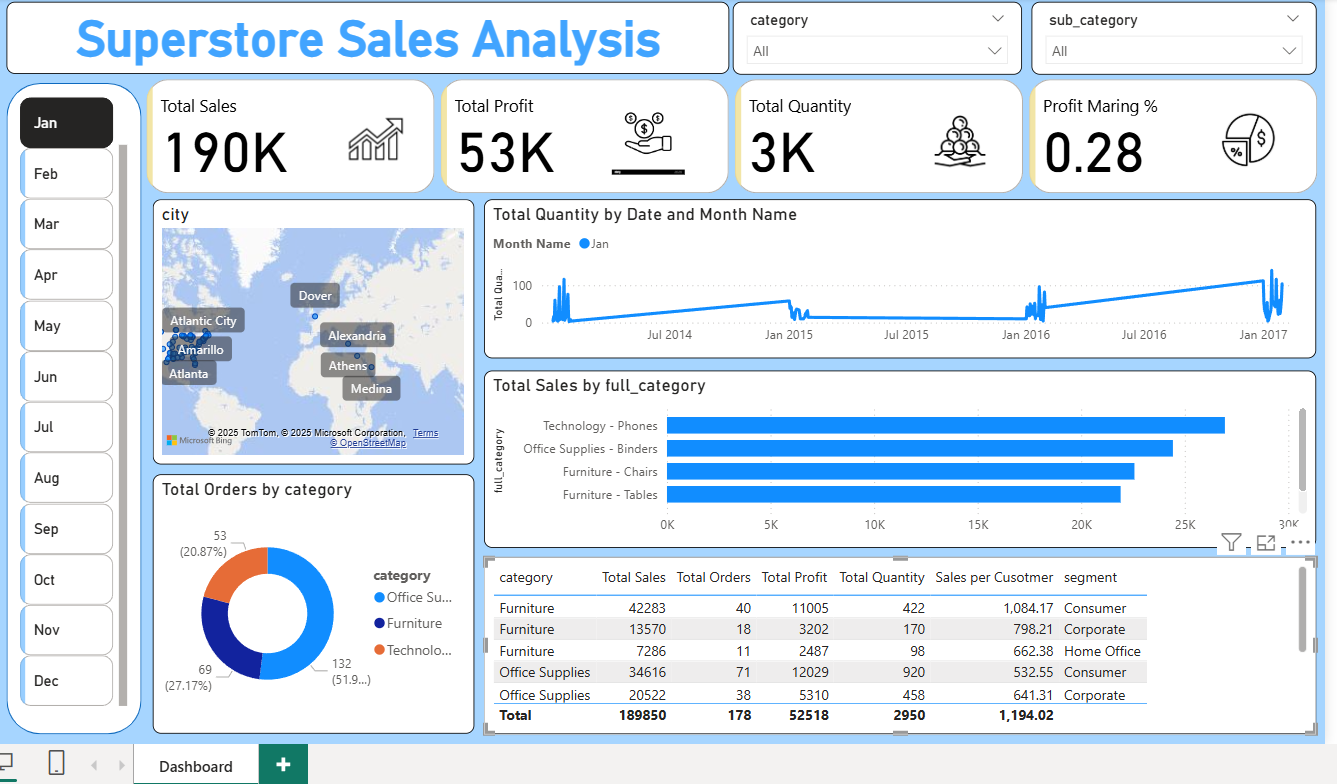

This screenshot's page, from the dashboard's own definition file:
{"tool":"powerbi","page":{"name":"Dashboard","canvas":[1280,720],"ordinal":0},"visuals":[{"type":"shape","box":[7.2,82,130.3,628.6],"z":0},{"type":"advancedSlicerVisual","fields":{"Values":["Date Table.Month Name"]},"box":[15.7,90.5,113.4,603.2],"z":1000},{"type":"cardVisual","fields":{"Data":["db_store superstore_sales.Total Sales","db_store superstore_sales.Total Profit","db_store superstore_sales.Total Quantity","db_store superstore_sales.Profit Maring %"]},"box":[137.5,73.6,1142.5,120.6],"z":2000},{"type":"image","box":[332.1,100,64.2,71.6],"z":3000},{"type":"image","box":[892.6,107.4,70.4,61.7],"z":4000},{"type":"image","box":[1169.1,102.5,74.1,69.1],"z":5000},{"type":"image","box":[575.3,90.1,102.5,85.2],"z":6000},{"type":"slicer","fields":{"Values":["db_store superstore_sales.category"]},"box":[708.6,3.7,279,70.4],"z":7000},{"type":"slicer","fields":{"Values":["db_store superstore_sales.sub_category"]},"box":[996.3,3.7,275.3,70.4],"z":8000},{"type":"map","fields":{"Category":["db_store superstore_sales.city"]},"box":[148.8,193.8,310,256.2],"z":9000},{"type":"lineChart","fields":{"Y":["db_store superstore_sales.Total Quantity"],"Category":["Date Table.Date"],"Series":["Date Table.Month Name"]},"box":[468.1,194.2,803.5,153.2],"z":10000},{"type":"donutChart","fields":{"Y":["db_store superstore_sales.Total Orders"],"Category":["db_store superstore_sales.category"]},"box":[148.8,460,310,250],"z":11000},{"type":"clusteredBarChart","fields":{"Y":["db_store superstore_sales.Total Sales"],"Category":["db_store superstore_sales.full_category"]},"box":[468.1,359.5,803.5,171.3],"z":12000},{"type":"tableEx","fields":{"Values":["db_store superstore_sales.category","db_store superstore_sales.Total Sales","db_store superstore_sales.Total Orders","db_store superstore_sales.Total Profit","db_store superstore_sales.Total Quantity","db_store superstore_sales.Sales per Cusotmer","db_store superstore_sales.segment"]},"box":[468.1,539.3,803.5,171.3],"z":13000},{"type":"textbox","title":"Superstore Sales Analysis ","box":[7.2,3.6,697.3,70],"z":14000}]}

Visuals, with their boxes in screenshot pixels (x1, y1, x2, y2):
shape: locate(7, 81, 142, 729)
advancedSlicerVisual - Date Table.Month Name: locate(16, 90, 133, 711)
cardVisual - db_store superstore_sales.Total Sales x db_store superstore_sales.Total Profit: locate(142, 72, 1319, 197)
image: locate(342, 100, 408, 173)
image: locate(919, 107, 992, 171)
image: locate(1204, 102, 1281, 173)
image: locate(593, 89, 698, 177)
slicer - db_store superstore_sales.category: locate(730, 0, 1017, 73)
slicer - db_store superstore_sales.sub_category: locate(1026, 0, 1310, 73)
map - db_store superstore_sales.city: locate(153, 196, 473, 460)
lineChart - db_store superstore_sales.Total Quantity x Date Table.Date: locate(482, 197, 1310, 354)
donutChart - db_store superstore_sales.Total Orders x db_store superstore_sales.category: locate(153, 470, 473, 728)
clusteredBarChart - db_store superstore_sales.Total Sales x db_store superstore_sales.full_category: locate(482, 367, 1310, 543)
tableEx - db_store superstore_sales.category x db_store superstore_sales.Total Sales: locate(482, 552, 1310, 729)
"Superstore Sales Analysis " textbox: locate(7, 0, 726, 72)
